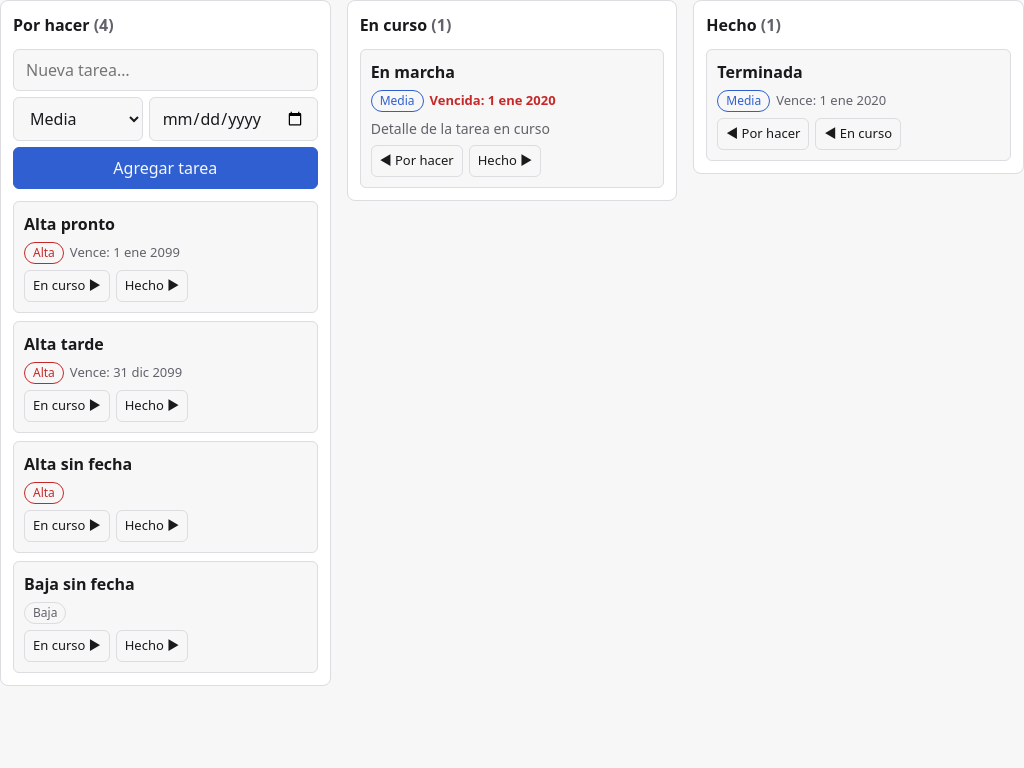
Test: TaskBoard editor › sends only the changed fields
Step 1. Click the button "En marcha" → (413, 72), box x1=371 y1=60 x2=653 y2=84
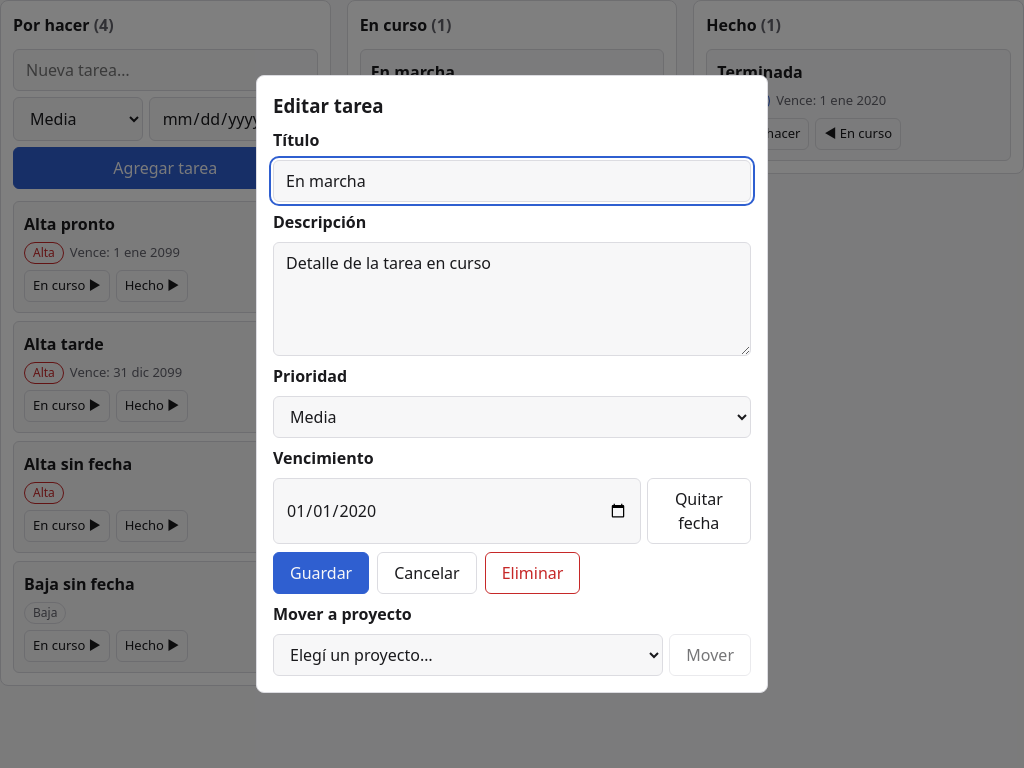
Step 2. Replace the text in the field labelled "Título" with "Renombrada" → (512, 181), box x1=273 y1=160 x2=751 y2=202
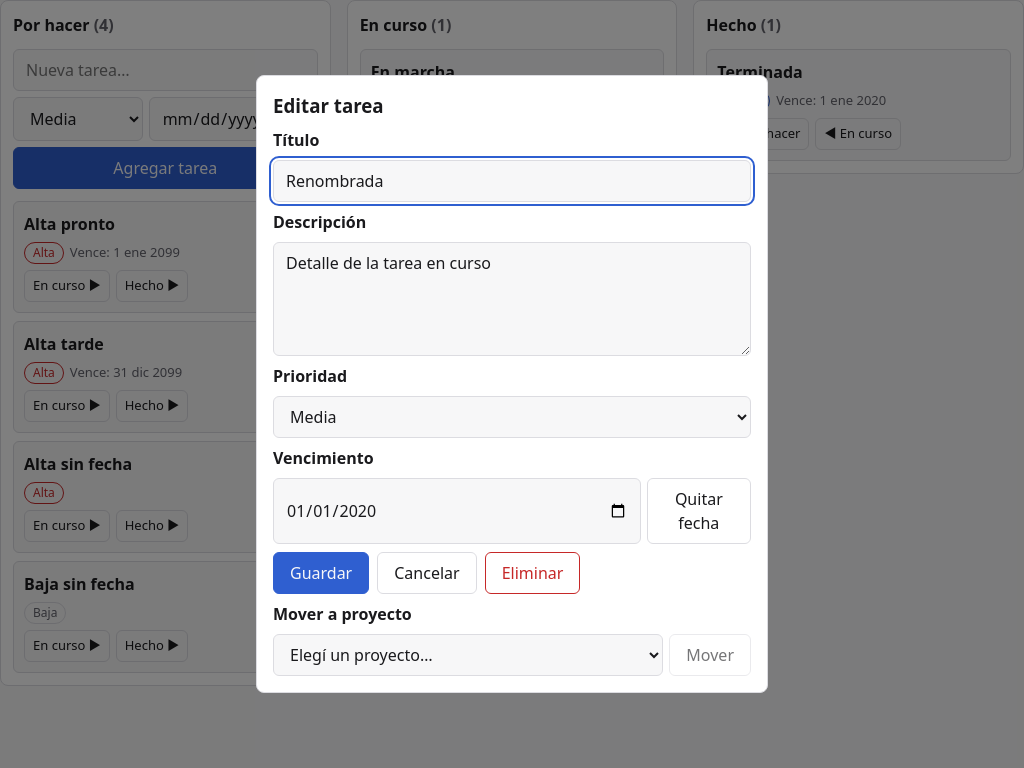
Step 3. Select "Alta" in the dropdown labelled "Prioridad" → (512, 417), box x1=273 y1=396 x2=751 y2=438
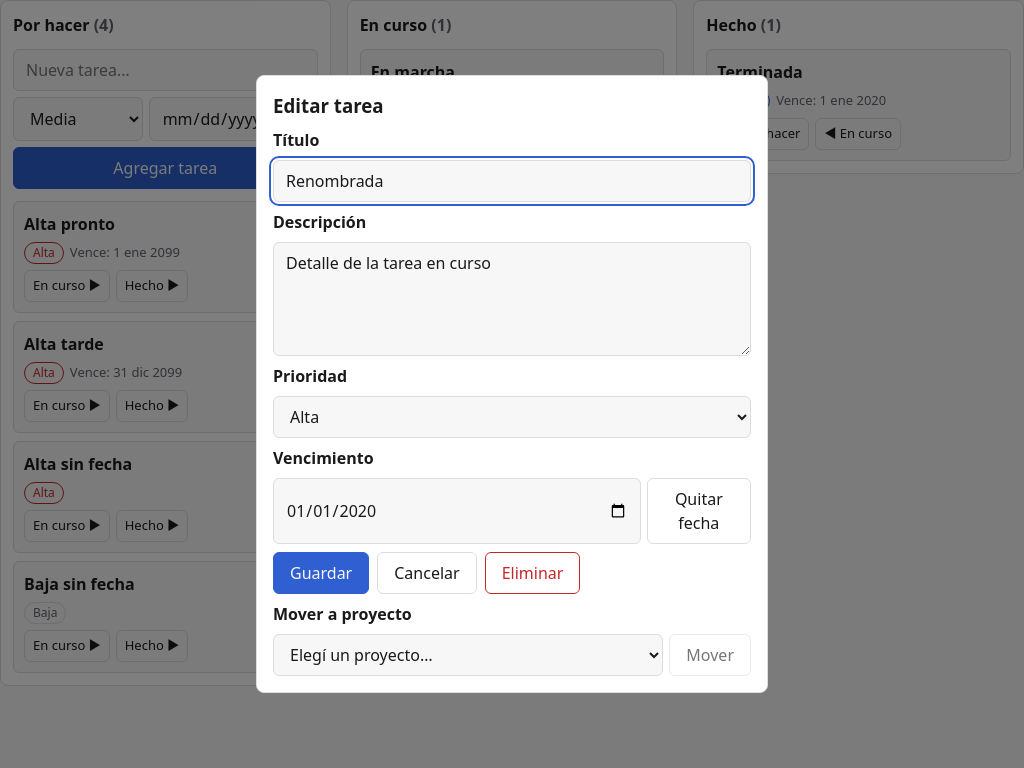
Step 4. Click the button "Guardar" → (321, 573), box x1=273 y1=552 x2=369 y2=594
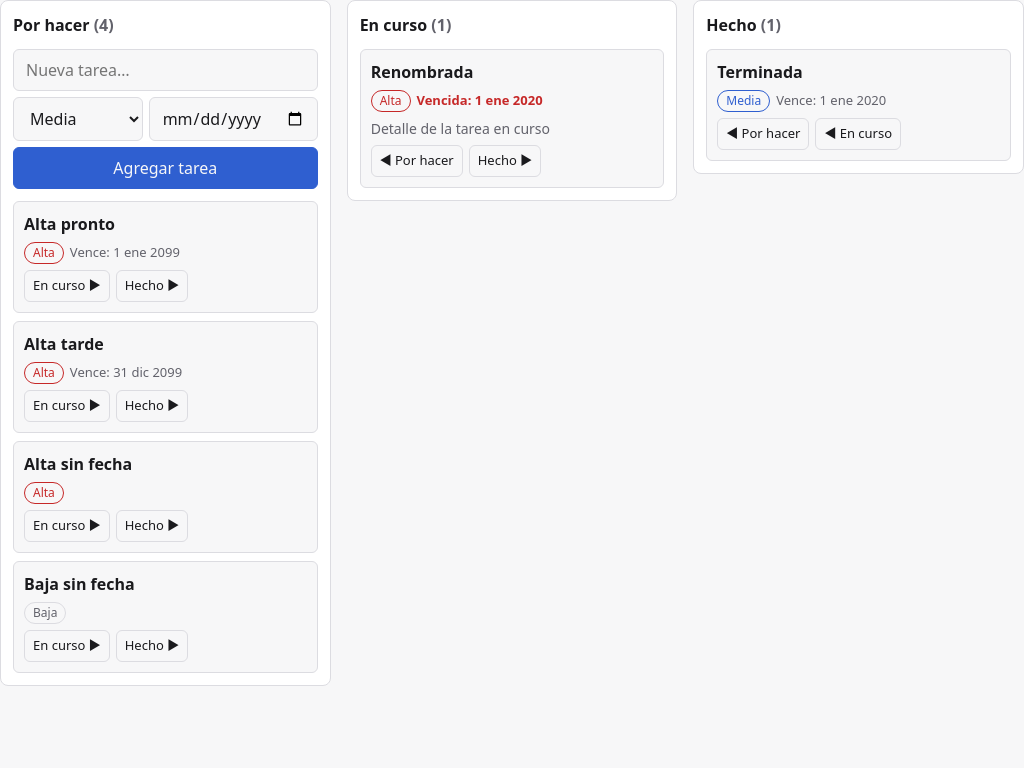
Expected: the button "Renombrada" is shown, x1=371 y1=60 x2=653 y2=84
Expected: the dialog is gone
